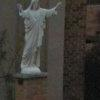Statue: (12, 1, 58, 86)
